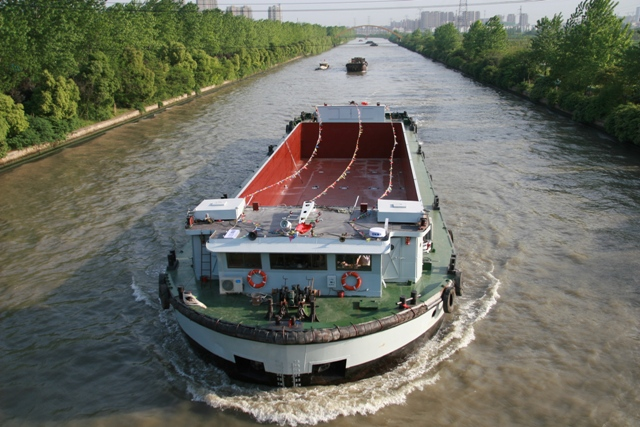boat: (166, 100, 463, 389)
